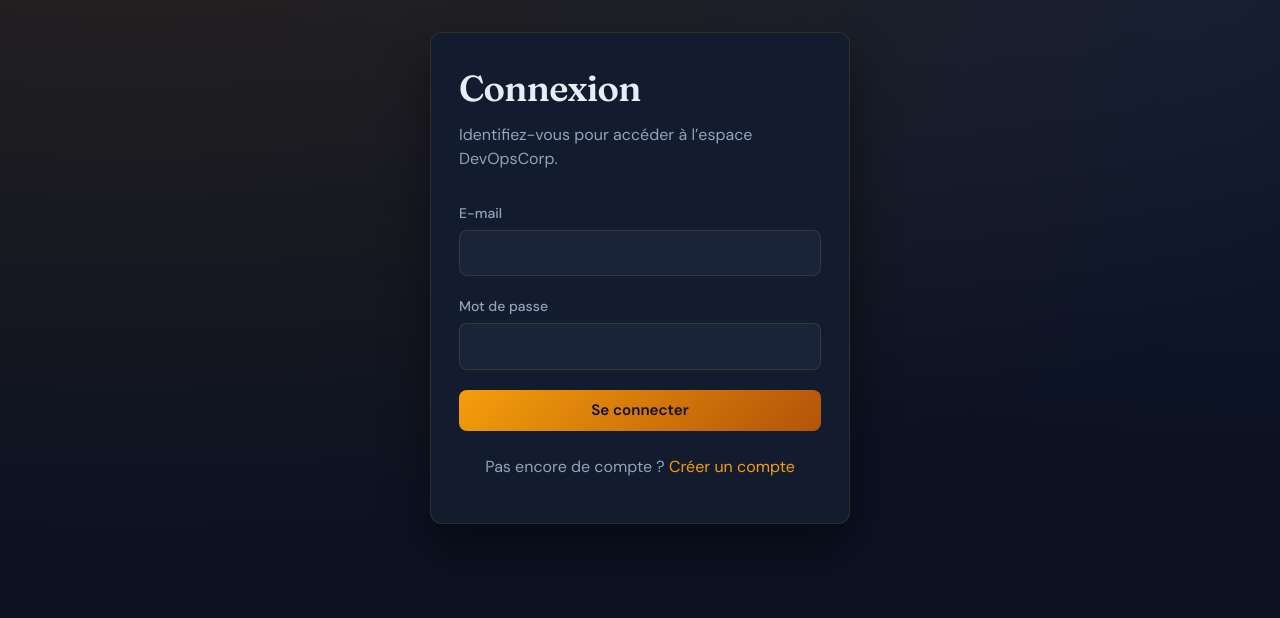
Scenario: Login — soumission › affiche un message d'erreur si login() échoue
This screenshot has width=1280, height=618.
In the field labelled "E-mail": (640, 253) [459,230,821,276], type "bad@example.com"
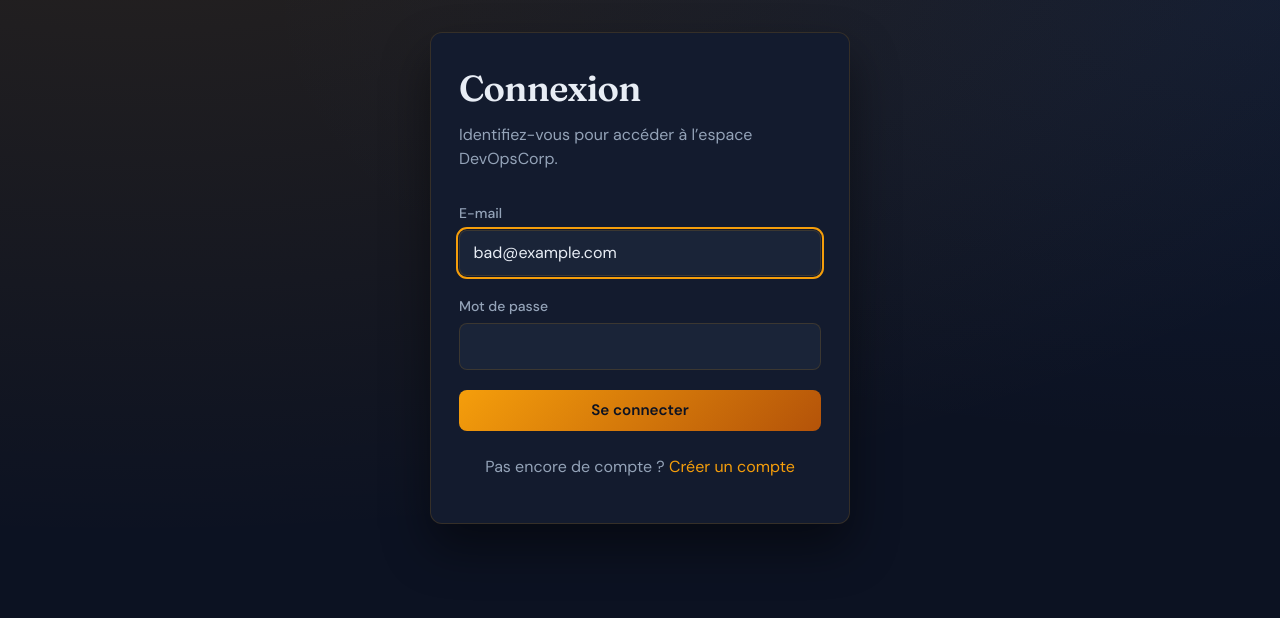
In the password field labelled "Mot de passe": (640, 346) [459,323,821,370], type "wrong"
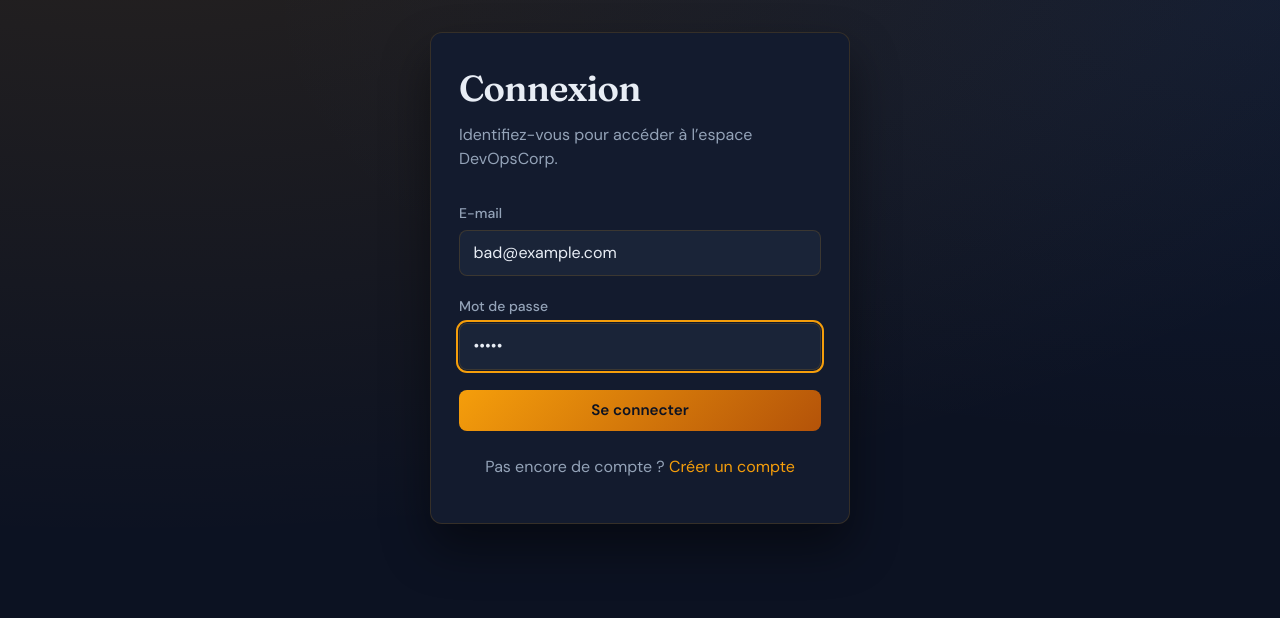
Submit the form from the button "Se connecter", box [459,390,821,431]
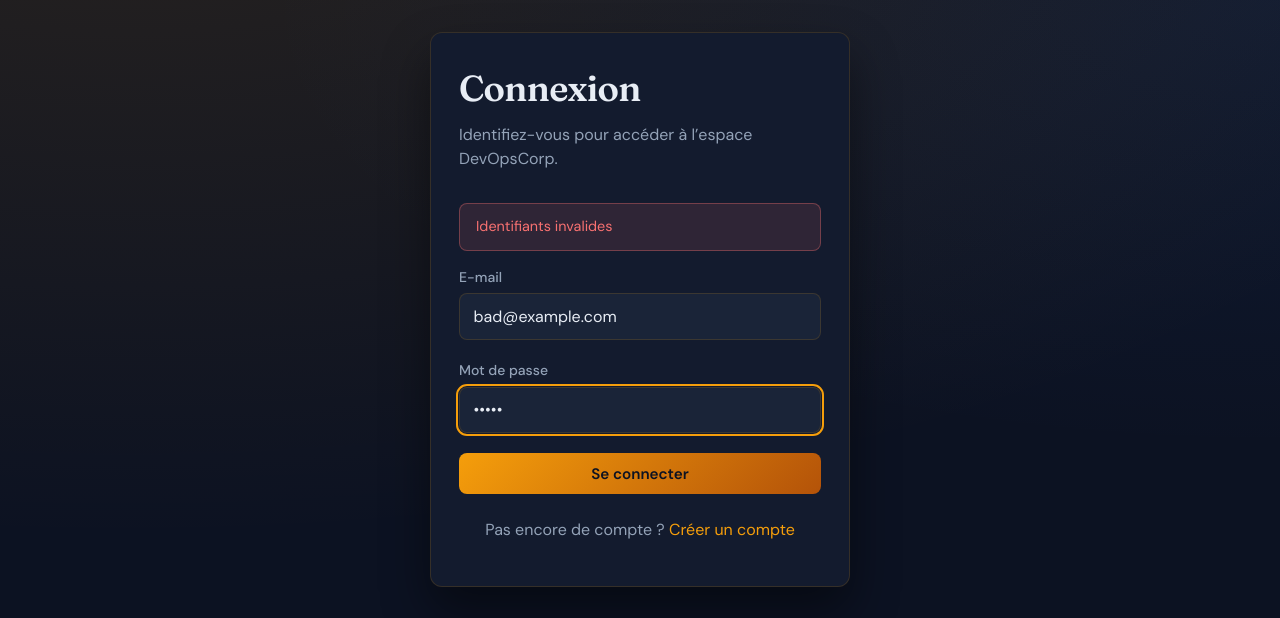
Now the message reads "Identifiants invalides", box [476,217,612,235]
